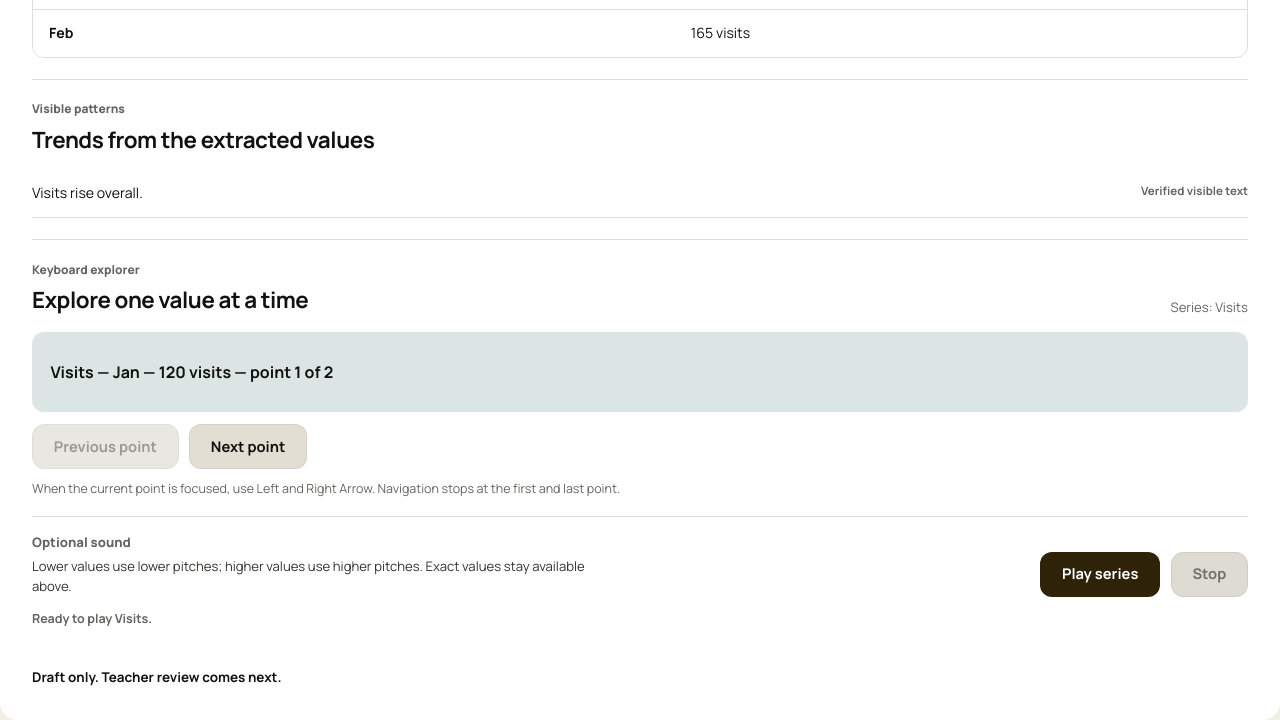
Test case: ChartLessonView › uses predictable non-wrapping buttons and one explicit live update
The image size is (1280, 720).
(page scrolled)
Expected: the text "Visits — Jan — 120 visits — point 1 of 2" is shown, [32, 332, 1248, 412]
Expected: the button "Previous point" is disabled, [32, 424, 179, 469]
Click the button "Next point" at (248, 446), box [189, 424, 307, 469]
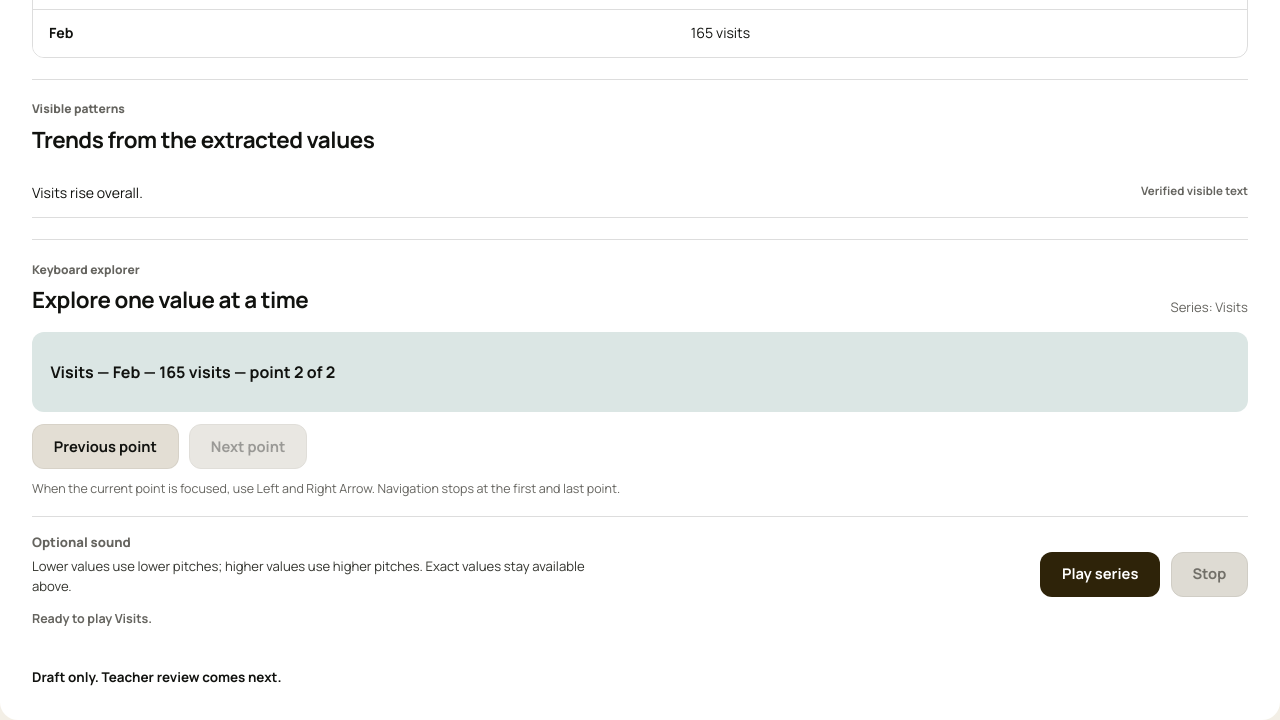
Expected: the text "Visits — Feb — 165 visits — point 2 of 2" is shown, [51, 361, 335, 384]
Expected: the button "Next point" is disabled, [189, 424, 307, 469]
Expected: the button "Previous point" is enabled
Click the button "Previous point" at (105, 446), box [32, 424, 179, 469]
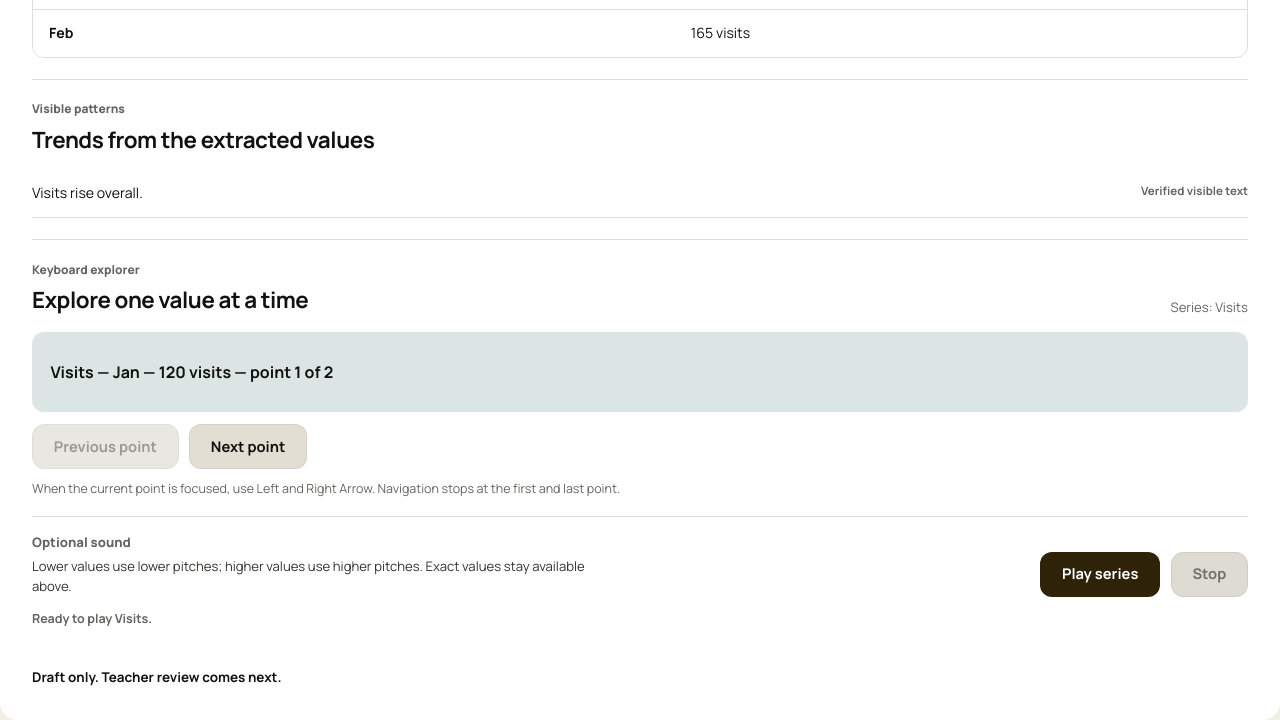
Expected: the text "Visits — Jan — 120 visits — point 1 of 2" is shown, [51, 361, 333, 384]
Expected: the button "Previous point" is disabled, [32, 424, 179, 469]
